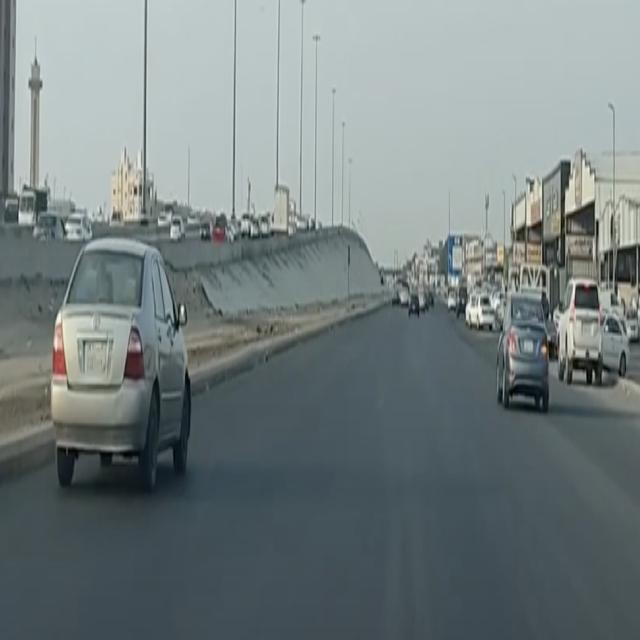license_plate: (84, 340, 107, 374), (523, 341, 534, 354), (583, 323, 591, 337), (412, 306, 414, 310)
